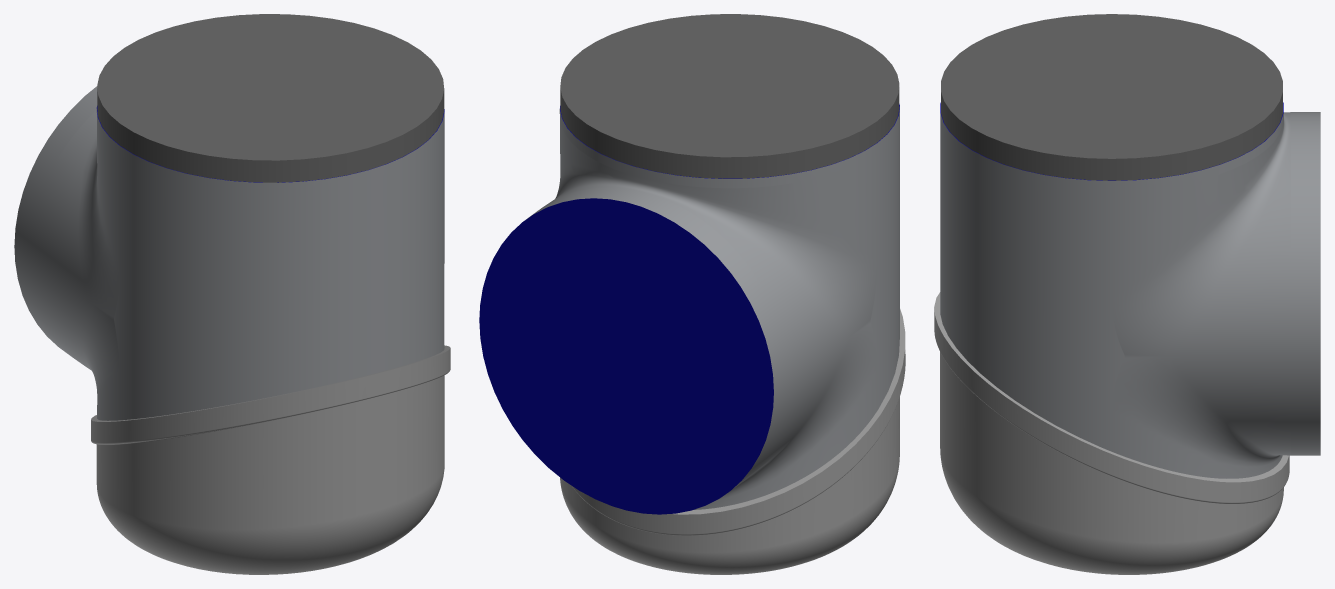
File: Wrist2.fbx
The picture shows the model from 3 angles, left to right: view 1: azimuth 30°, elevation 25°; view 2: azimuth 150°, elevation 25°; view 3: azimuth 270°, elevation 25°; orthographic projection. The views are drawn at different scales.
Visible parts, largest first — view 1: Actor0, Actor1; view 2: Actor0, Actor1; view 3: Actor0, Actor1.
Part boxes in pixels (x1,y1,x2,y2): Actor0: [14, 14, 444, 420]; Actor1: [91, 345, 450, 574]; Actor0: [479, 14, 899, 514]; Actor1: [560, 309, 905, 574]; Actor0: [940, 14, 1320, 478]; Actor1: [934, 292, 1289, 574].
Size of the model in its own units: 7.75 by 10.47 by 8.42.
